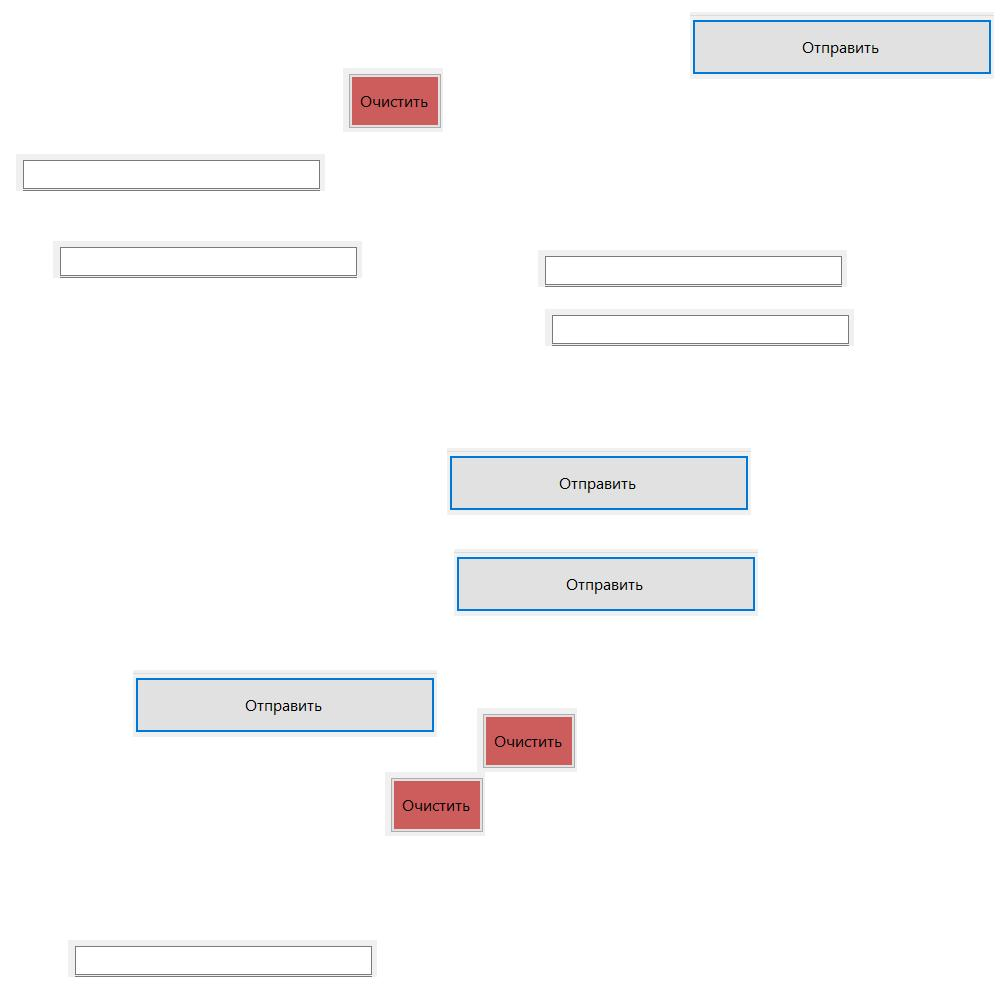Button: (454, 549, 758, 616), (690, 12, 994, 79), (133, 670, 437, 737), (447, 448, 751, 515), (385, 772, 485, 836), (477, 708, 577, 772), (343, 68, 443, 132)
EditText-: (53, 241, 362, 278), (68, 940, 377, 977), (538, 250, 847, 287), (16, 154, 325, 191), (545, 309, 854, 346)
